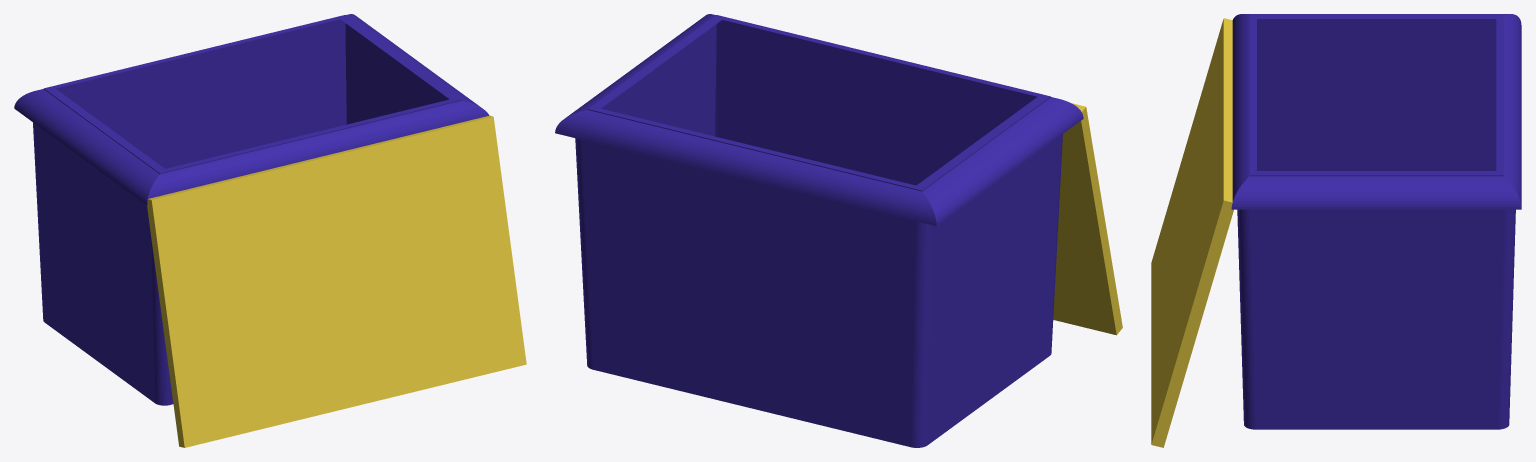
File: Blauwe ton.glb
The picture shows the model from 3 angles, left to right: view 1: azimuth 30°, elevation 25°; view 2: azimuth 150°, elevation 25°; view 3: azimuth 270°, elevation 25°; orthographic projection. The views are drawn at different scales.
Parts seen in each view (by area): view 1: Cube.001, Cube; view 2: Cube, Cube.001; view 3: Cube, Cube.001.
Part boxes in pixels (bbox=[...]): Cube.001: bbox=[147, 115, 526, 447]; Cube: bbox=[14, 14, 489, 405]; Cube: bbox=[555, 14, 1083, 447]; Cube.001: bbox=[1053, 103, 1122, 335]; Cube: bbox=[1231, 14, 1521, 429]; Cube.001: bbox=[1151, 18, 1233, 447].
Size of the model in its own units: 3.42 by 2.28 by 2.91.
